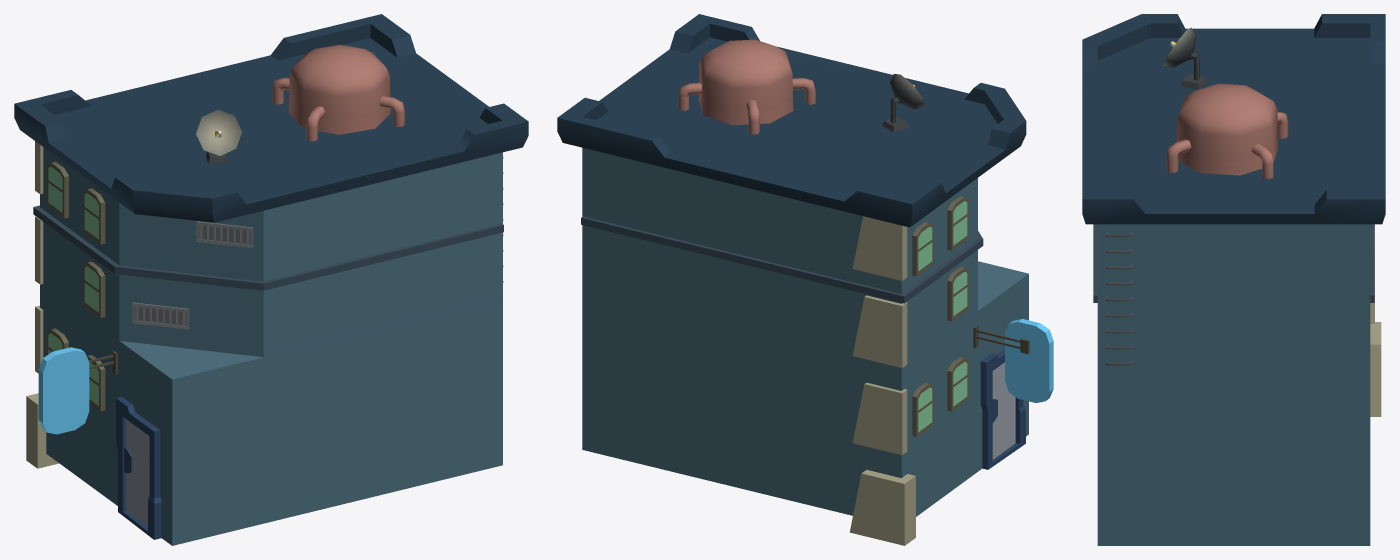
File: NorthWest_House_01.fbx
3 renders of one model, left to right at view 1: azimuth 30°, elevation 25°; view 2: azimuth 150°, elevation 25°; view 3: azimuth 270°, elevation 25°, orthographic. The views are drawn at different scales.
Parts seen in each view (by area): view 1: NorthWest_House_01; view 2: NorthWest_House_01; view 3: NorthWest_House_01.
Part boxes in pixels (<box>): NorthWest_House_01: <box>14,14,528,545</box>; NorthWest_House_01: <box>557,14,1053,545</box>; NorthWest_House_01: <box>1082,14,1385,545</box>.
Size of the model in its own units: 29.09 by 26.31 by 17.36.
2 materials, 2 textured.
